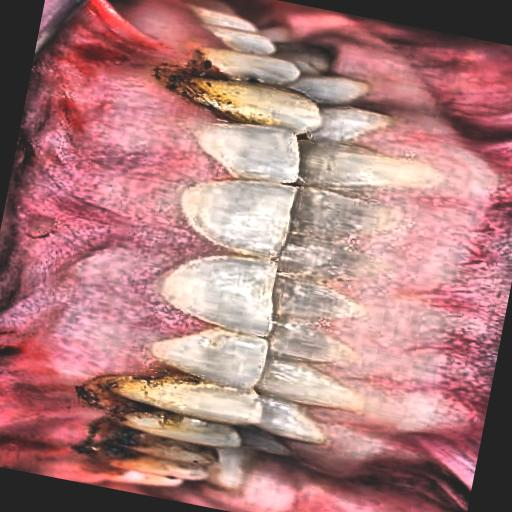Gingivitis: (45, 0, 240, 201), (0, 308, 157, 491)
